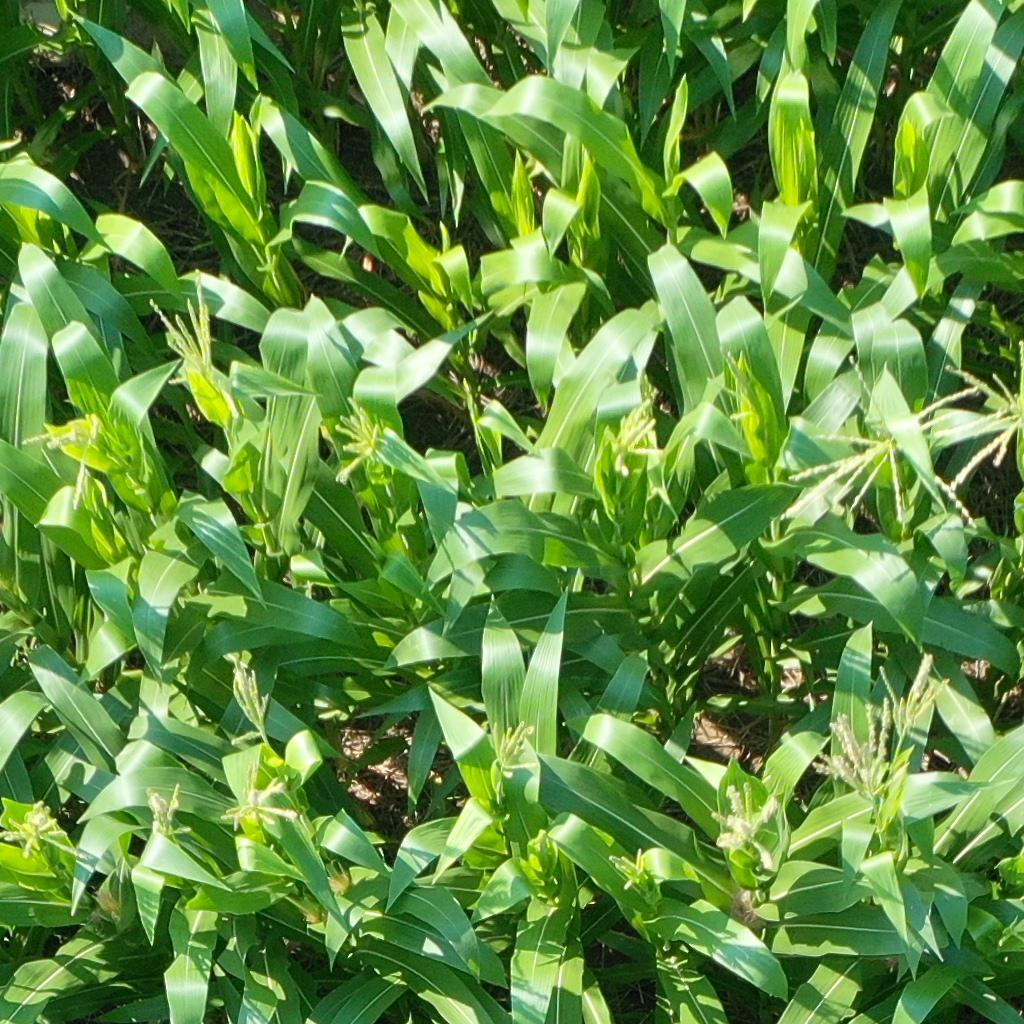Tassel: (787, 349, 973, 537), (937, 339, 1024, 492), (142, 265, 228, 392), (811, 700, 903, 806), (14, 411, 110, 508), (1, 795, 99, 877), (702, 782, 788, 874), (874, 650, 946, 740), (600, 395, 670, 481), (323, 394, 387, 487), (213, 772, 302, 836), (706, 351, 764, 433), (223, 656, 274, 744), (476, 711, 538, 772), (141, 776, 193, 844), (603, 838, 657, 895)
